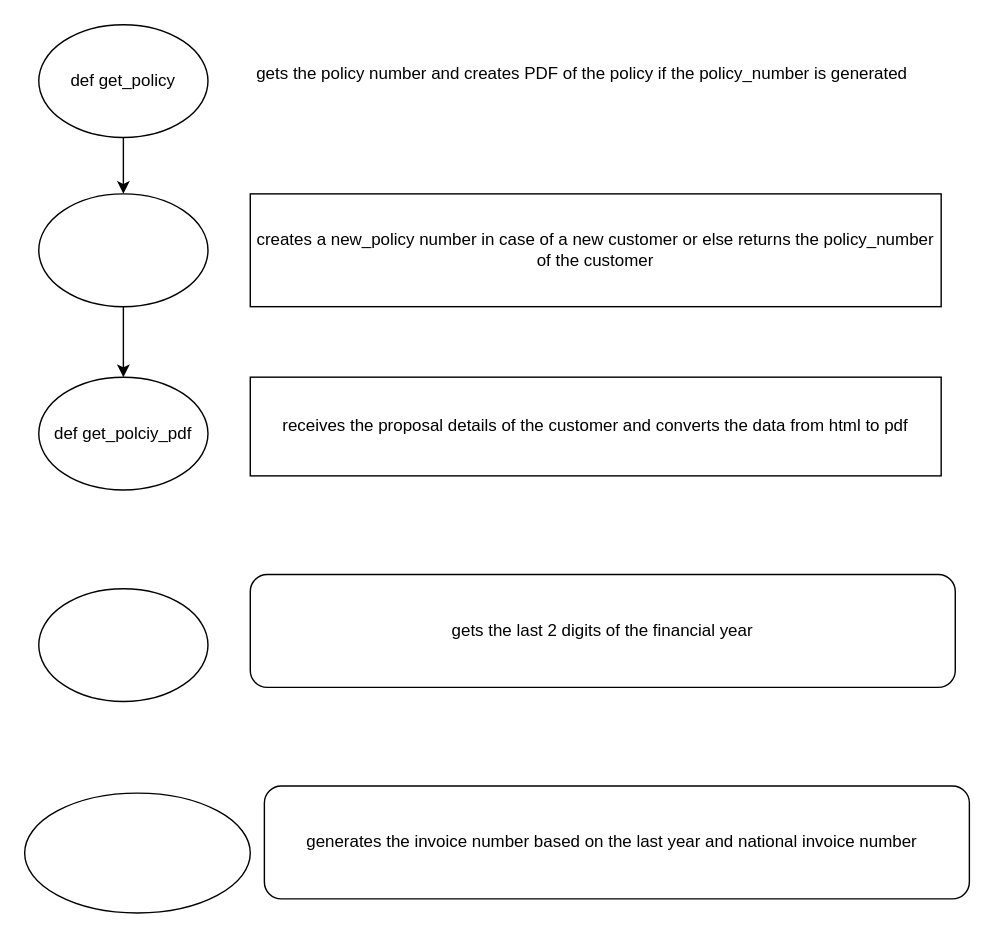
The diagram is 994 pixels wide and 938 high, and some of its shapes have lost their labels. Each missing label, with the box of its shape:
def generate_invoice_number: (23, 792, 250, 913)
def get_financial_year: (37, 587, 208, 701)
def get_policy_number: (37, 192, 208, 307)
